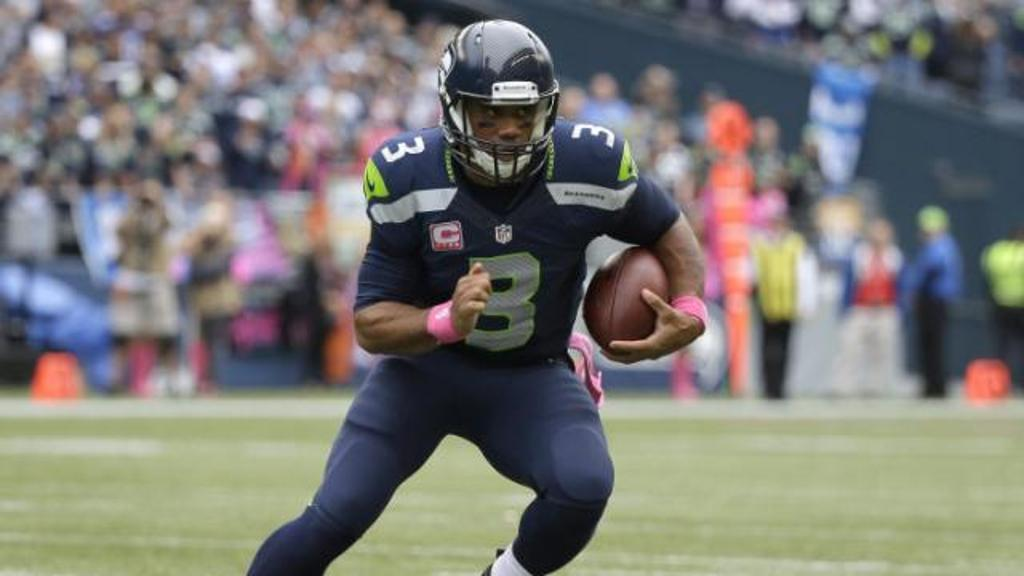face: (462, 56, 540, 172)
